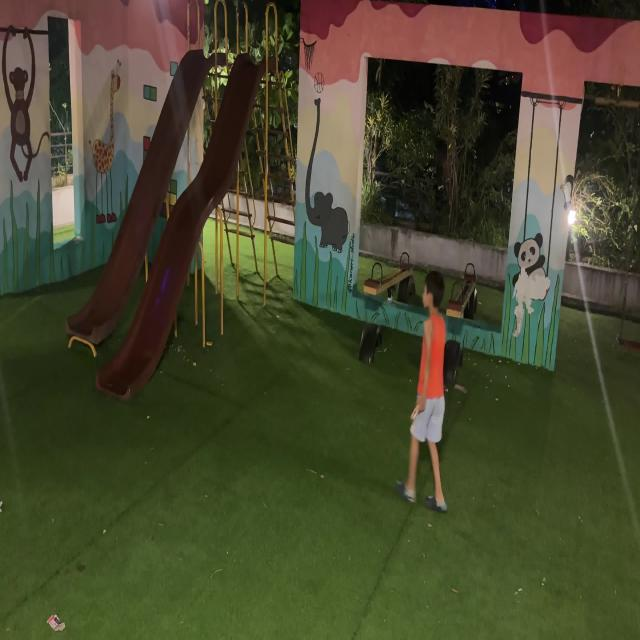garbage_dumping: (405, 400, 427, 431)
